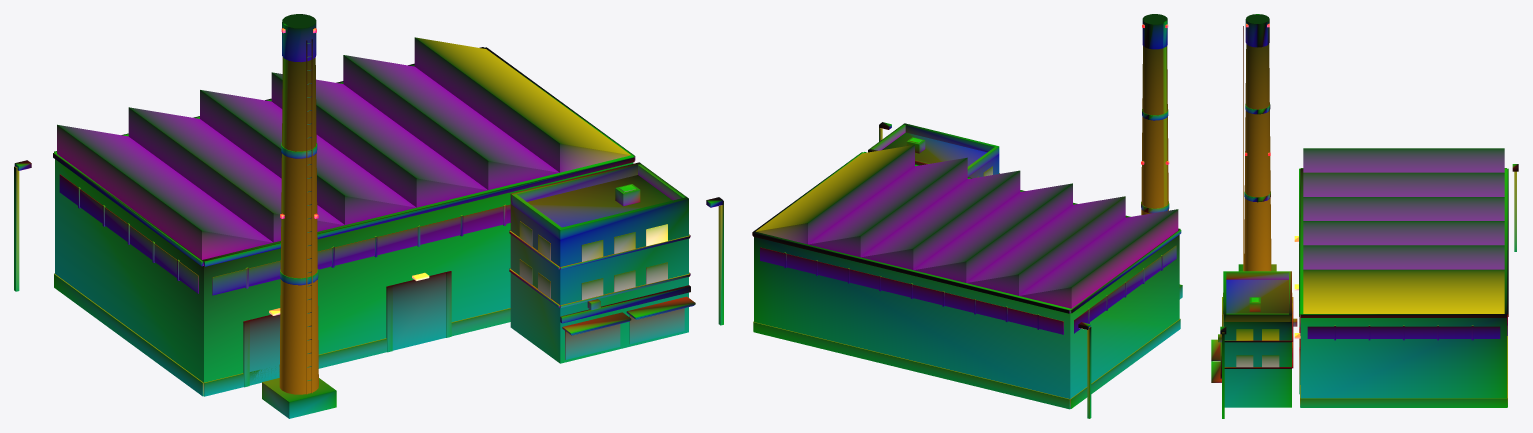
The model's file is Ind_Hall_V7.fbx.
3 renders of one model, left to right at view 1: azimuth 30°, elevation 25°; view 2: azimuth 150°, elevation 25°; view 3: azimuth 270°, elevation 25°, orthographic. The views are drawn at different scales.
Visible parts, largest first — view 1: Ind_Hall_V7_LOD0; view 2: Ind_Hall_V7_LOD0; view 3: Ind_Hall_V7_LOD0.
Boxes of the visible parts, x1,y1,x2,y2 form: Ind_Hall_V7_LOD0: [14, 14, 723, 418]; Ind_Hall_V7_LOD0: [752, 14, 1182, 418]; Ind_Hall_V7_LOD0: [1211, 14, 1518, 418].
Size of what is drawn, in the model's own units: 46.3 by 34 by 35.75.
